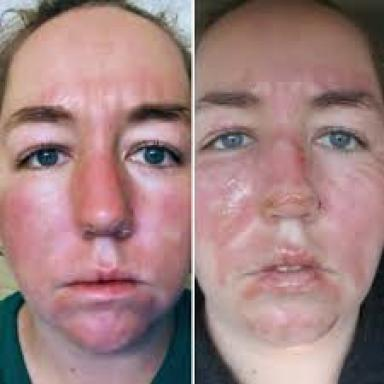burn: (1, 72, 193, 357), (194, 62, 382, 339)
